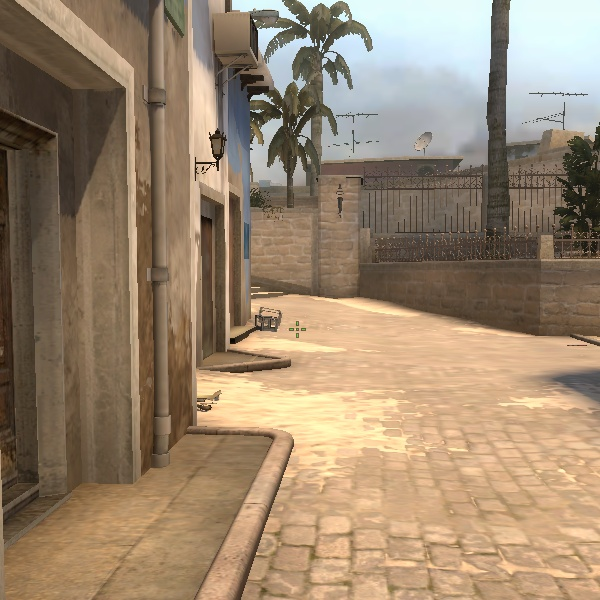ct_body: (555, 131, 598, 256)
